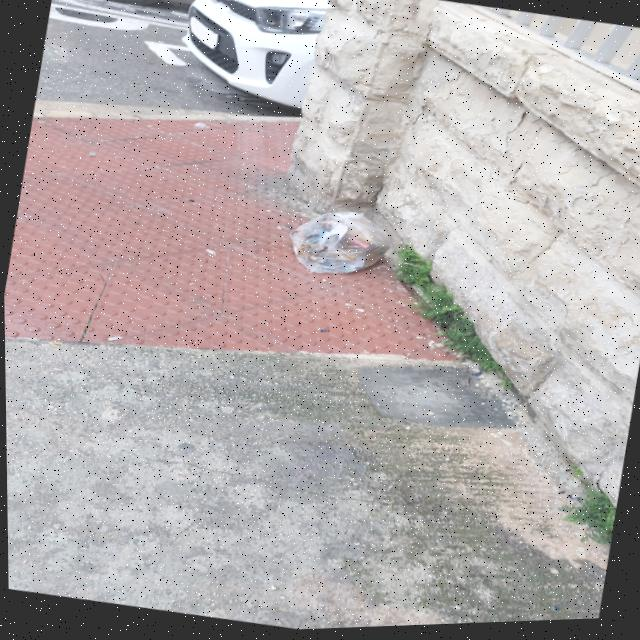Organic Waste -White Bag-: (283, 204, 396, 290)
